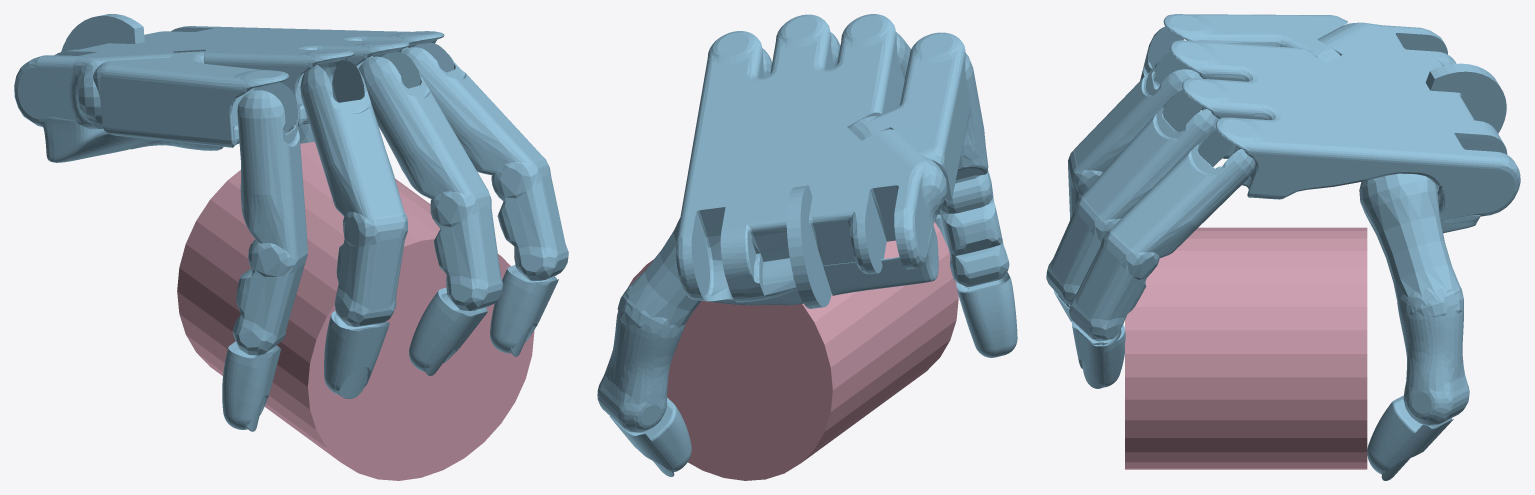
3 renders of one model, left to right at view 1: azimuth 30°, elevation 25°; view 2: azimuth 150°, elevation 25°; view 3: azimuth 270°, elevation 25°, orthographic. The views are drawn at different scales.
Visible parts, largest first — view 1: world; view 2: world; view 3: world.
Boxes of the visible parts, x1,y1,x2,y2 form: world: (14,14,568,480); world: (597,14,1017,480); world: (1046,14,1520,480).
Size of the model in its own units: 0.1307 by 0.1411 by 0.1567.
